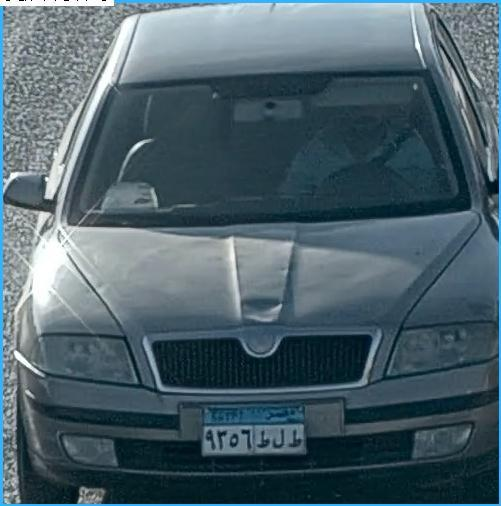windshield: (49, 69, 480, 231)
